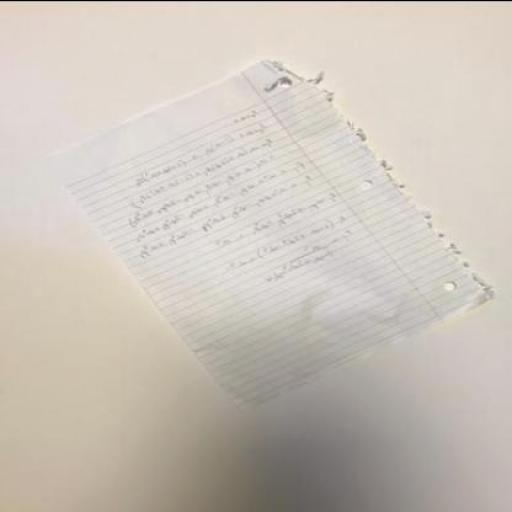paper: (55, 58, 493, 405)
